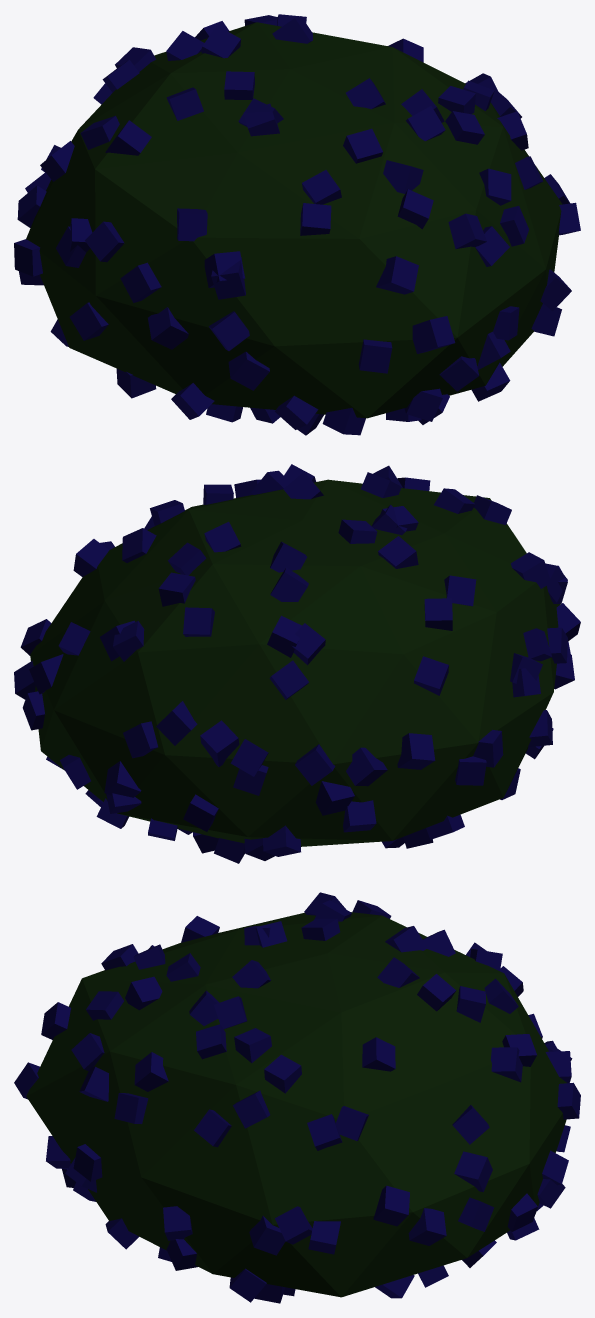
File: s_bush_03.FBX
3 views of the same model, one above another, from view 1: azimuth 30°, elevation 25°; view 2: azimuth 150°, elevation 25°; view 3: azimuth 270°, elevation 25° (orthographic). The views are drawn at different scales.
Visible parts, largest first — view 1: s_bush_03, s_berries_03; view 2: s_bush_03, s_berries_03; view 3: s_bush_03, s_berries_03.
Part boxes in pixels (<box>): s_bush_03: <box>26,22,562,418</box>; s_berries_03: <box>14,14,580,435</box>; s_bush_03: <box>30,479,560,846</box>; s_berries_03: <box>14,464,580,863</box>; s_bush_03: <box>26,912,566,1297</box>; s_berries_03: <box>14,892,580,1303</box>.
Size of the model in its own units: 1.06 by 0.6615 by 1.13.
